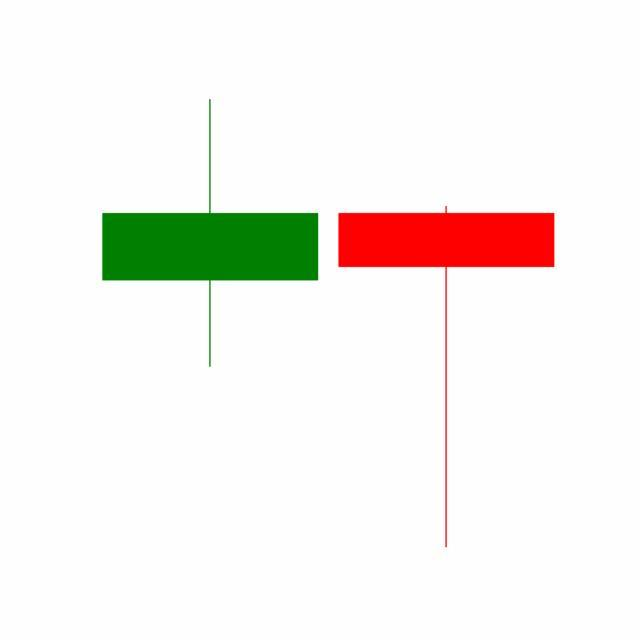Hanging Man: (328, 203, 566, 552)
